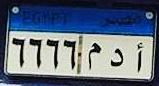6: (62, 38, 79, 70), (28, 38, 45, 70), (11, 35, 27, 69), (47, 39, 60, 69)
alif: (132, 41, 145, 73)
daal: (108, 48, 125, 66)
meem: (86, 42, 103, 71)
